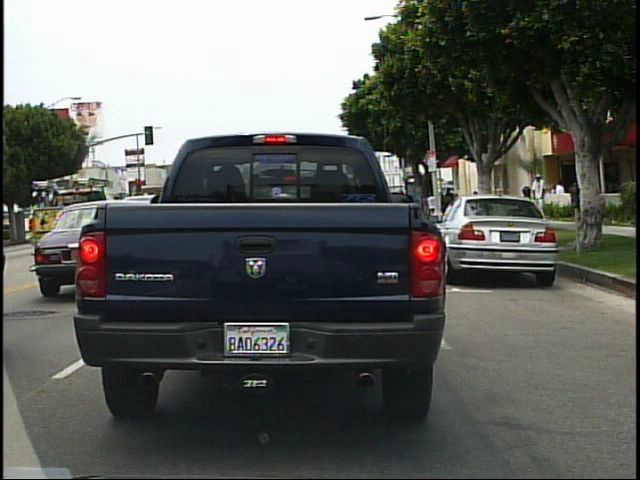person: (530, 167, 553, 218), (549, 176, 572, 224), (440, 184, 459, 226)
